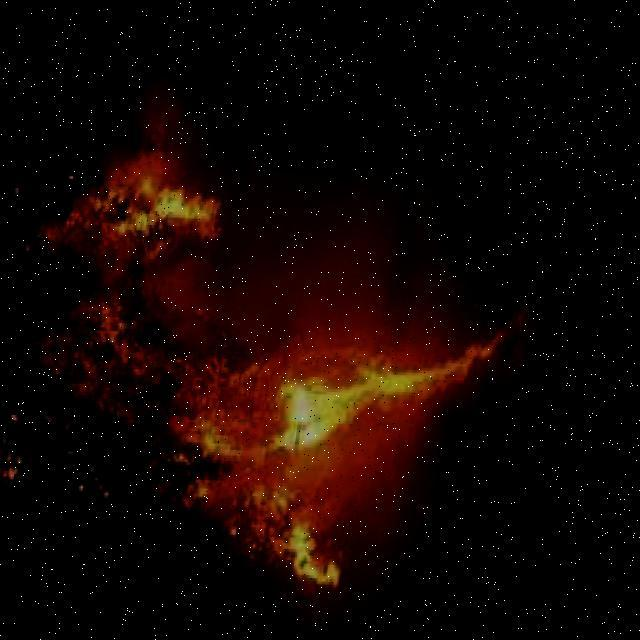Fire: (16, 132, 538, 589)
